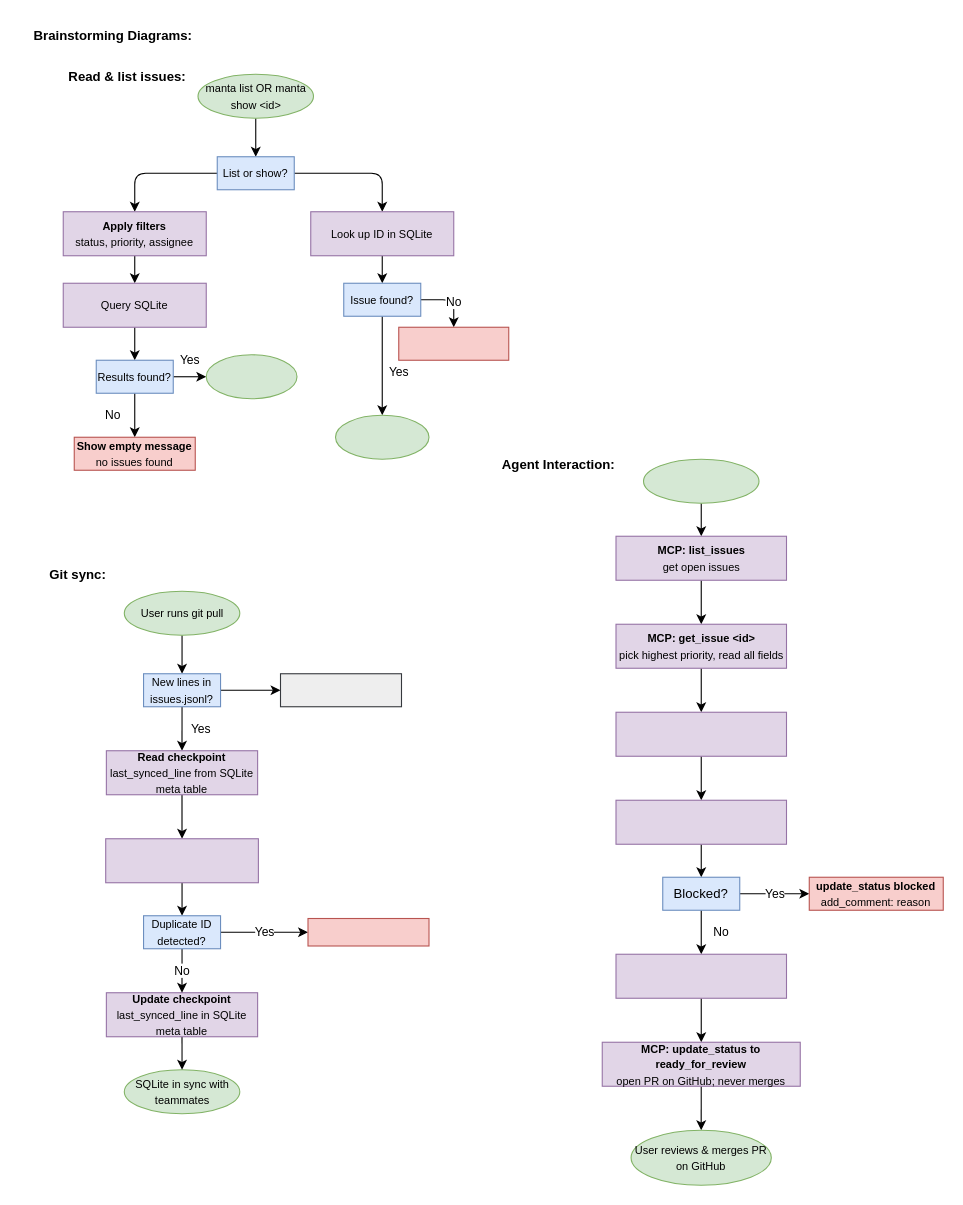
Image size: 963x1205. Some labels were removed from this diagram. The centre of each missing label's shape, as x and y in pixels:
"Agent starts session" belongs at pixel 700 480.
"Agent updates work" belongs at pixel 701 821.
"Flag collision log warning to user" belongs at pixel 368 931.
"MCP: log_tokens record token usage for this issue" belongs at pixel 701 975.
"MCP: update_status to in_progress" belongs at pixel 701 733.
"Print full issue detail" belongs at pixel 381 436.
"Print issue to terminal" belongs at pixel 251 376.
"Replay new events into SQLite skip already processed lines" belongs at pixel 181 860.
"Show error ID not found" belongs at pixel 453 343.
"SQLite already current (no action needed)" belongs at pixel 340 690.
